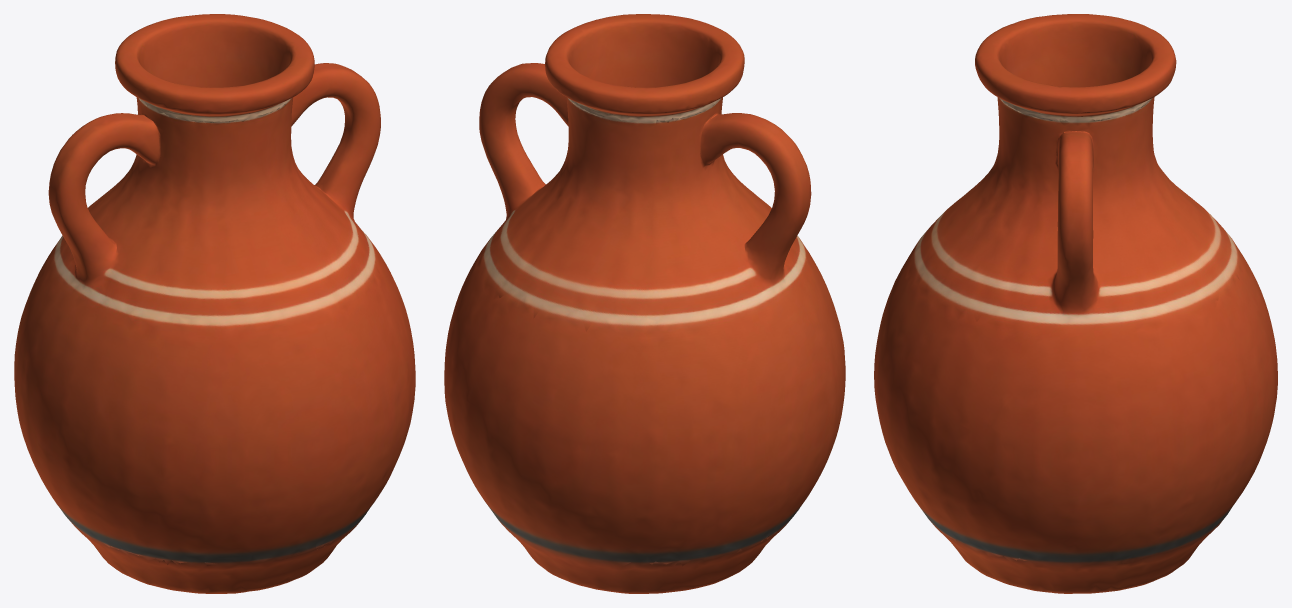
The model's file is jug_rodin.glb.
3 renders of one model, left to right at view 1: azimuth 30°, elevation 25°; view 2: azimuth 150°, elevation 25°; view 3: azimuth 270°, elevation 25°, orthographic.
Visible parts, largest first — view 1: Mesh; view 2: Mesh; view 3: Mesh.
Boxes of the visible parts, bbox=[...] form: Mesh: bbox=[14, 14, 415, 593]; Mesh: bbox=[444, 14, 845, 593]; Mesh: bbox=[874, 14, 1277, 593].
Bounding box in the file's own units: 1.39 × 1.9 × 1.4.
1 material, 1 textured.
